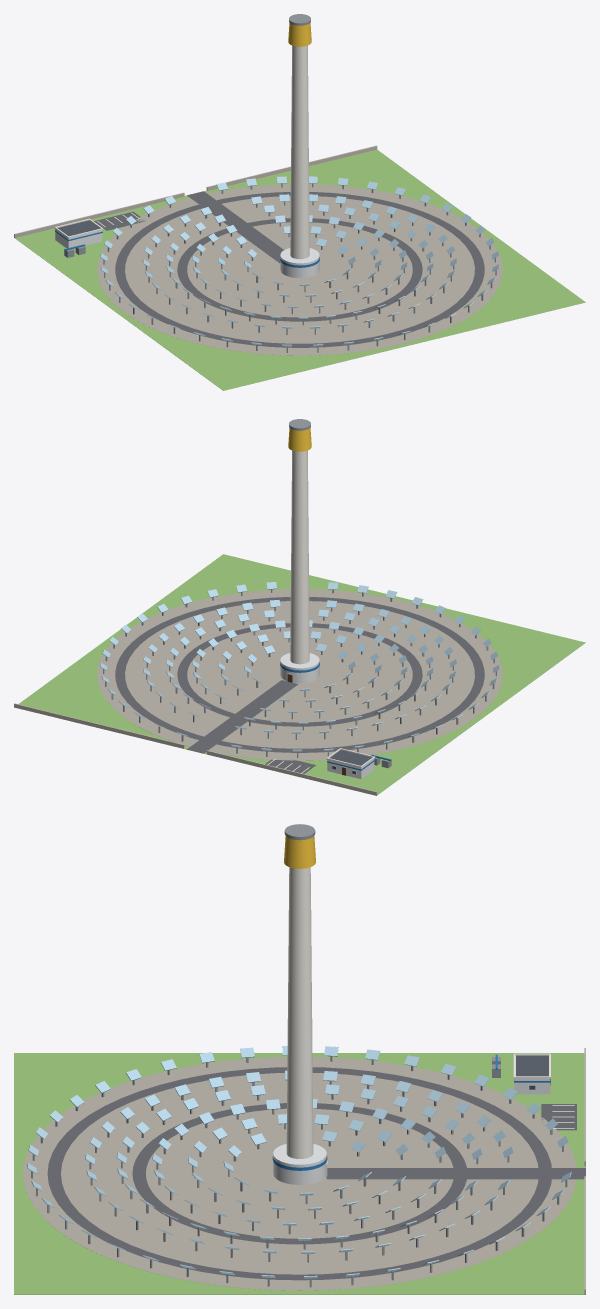
The model's file is helioarray.glb.
3 renders of one model, top to bottom at view 1: azimuth 30°, elevation 25°; view 2: azimuth 150°, elevation 25°; view 3: azimuth 270°, elevation 25°, orthographic. The views are drawn at different scales.
Parts seen in each view (by area): view 1: field, lawn, ring_road (×2), tower, boundary_wall (×2), service_road, tower_base, control_building, receiver; view 2: field, lawn, ring_road (×2), tower, boundary_wall (×2), service_road, tower_base, receiver; view 3: field, lawn, ring_road (×2), tower, service_road, tower_base, receiver, car_park, roof.
Part boxes in pixels (box(x1,y1,x2,y2)): field: box(97, 184, 502, 355); lawn: box(15, 149, 585, 390); ring_road (×2): box(115, 192, 484, 347); tower: box(290, 45, 309, 259); boundary_wall (×2): box(14, 145, 377, 237); service_road: box(187, 191, 283, 263); tower_base: box(280, 248, 319, 278); control_building: box(55, 229, 102, 248); receiver: box(288, 23, 311, 46); field: box(97, 589, 502, 760); lawn: box(14, 554, 585, 795); ring_road (×2): box(115, 597, 484, 752); tower: box(290, 450, 309, 664); boundary_wall (×2): box(14, 703, 377, 795); service_road: box(187, 680, 298, 753); tower_base: box(280, 653, 319, 683); receiver: box(288, 428, 311, 451); field: box(23, 1057, 576, 1290); lawn: box(14, 1053, 585, 1294); ring_road (×2): box(47, 1067, 551, 1280); tower: box(286, 867, 313, 1158); service_road: box(326, 1168, 585, 1179); tower_base: box(273, 1143, 326, 1184); receiver: box(284, 836, 315, 868); car_park: box(541, 1104, 576, 1130); roof: box(516, 1055, 548, 1076).
Size of the model in its own units: 128 by 84.8 by 128.
